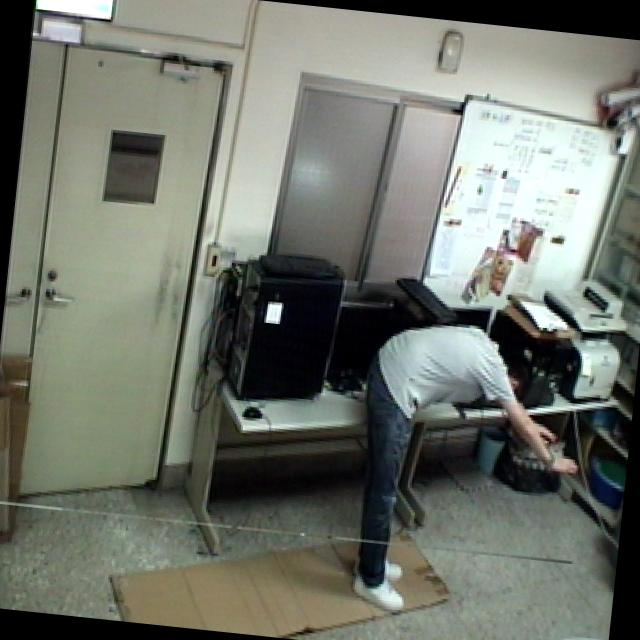bend: (341, 304, 590, 632)
